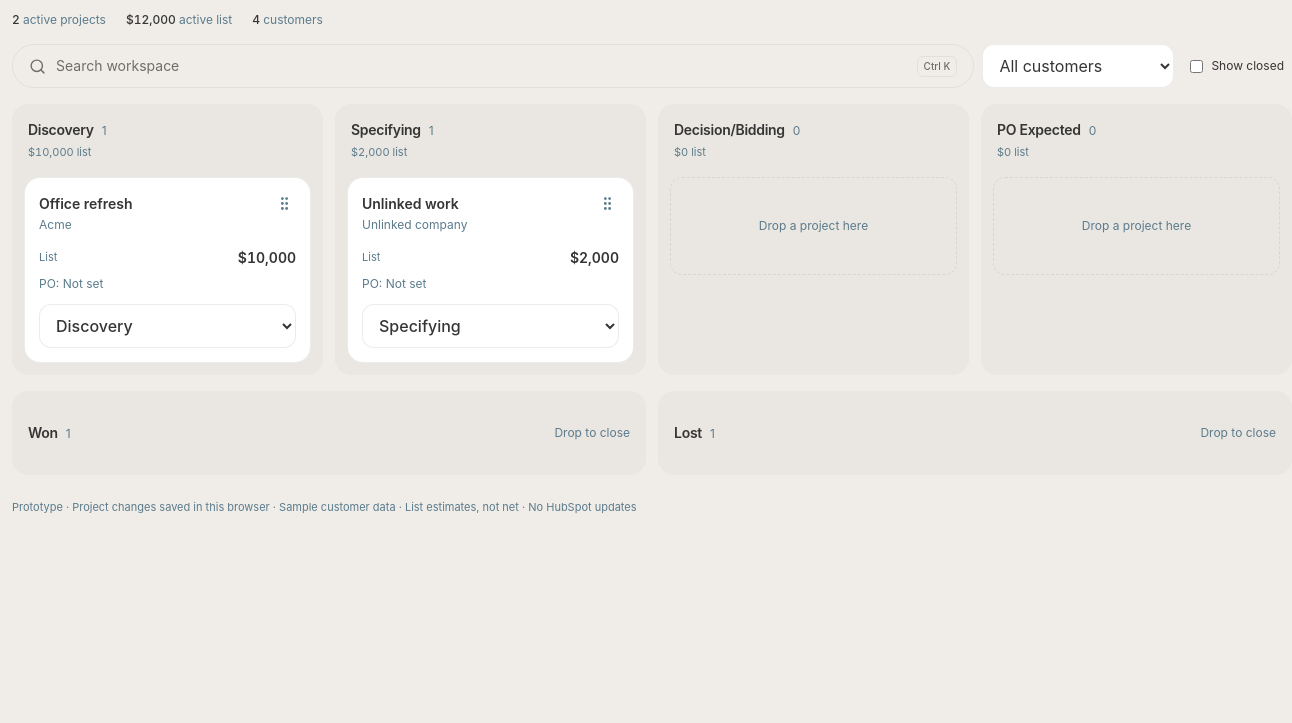
it: ProjectsWorkspace › moving a project to Won updates active totals without losing it
Select "Won" in the dropdown named "Stage for Office refresh" at (168, 326), box [39,304,296,348]
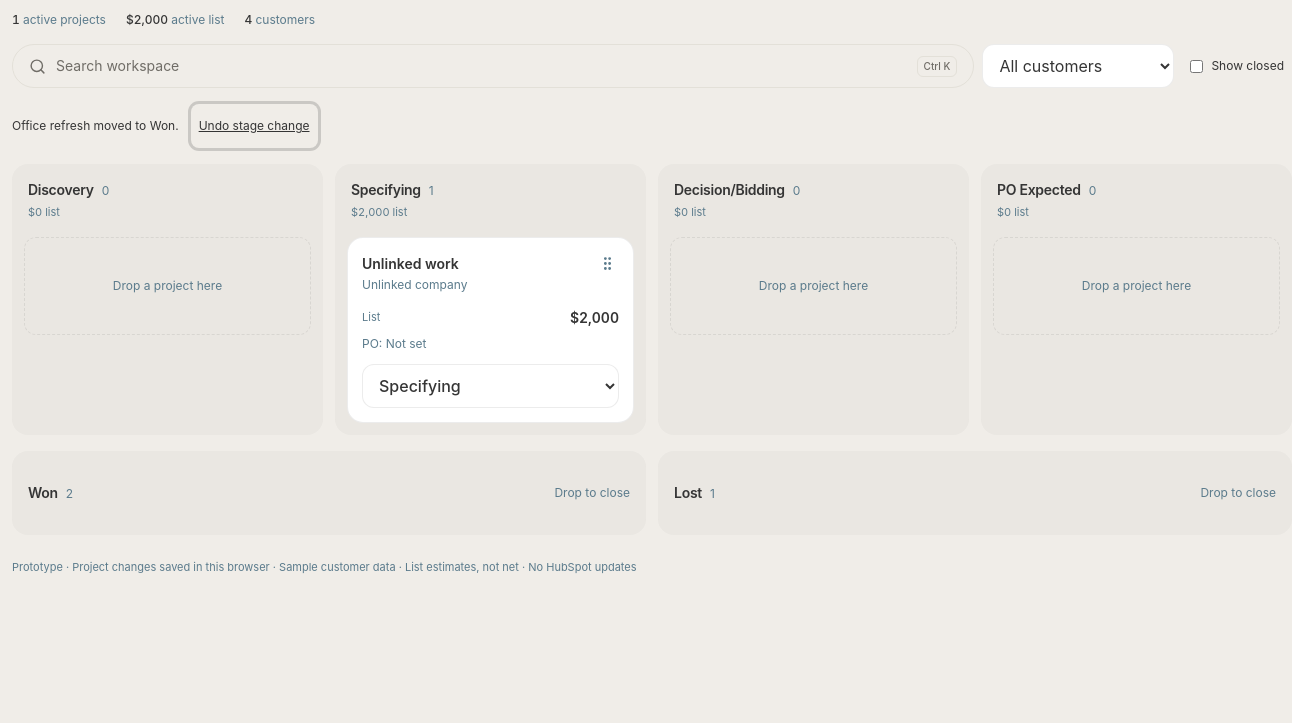
Check: the text "$12,000" is gone
Click the checkbox labelled "Show closed" at (1197, 66), box [1190,60,1203,72]
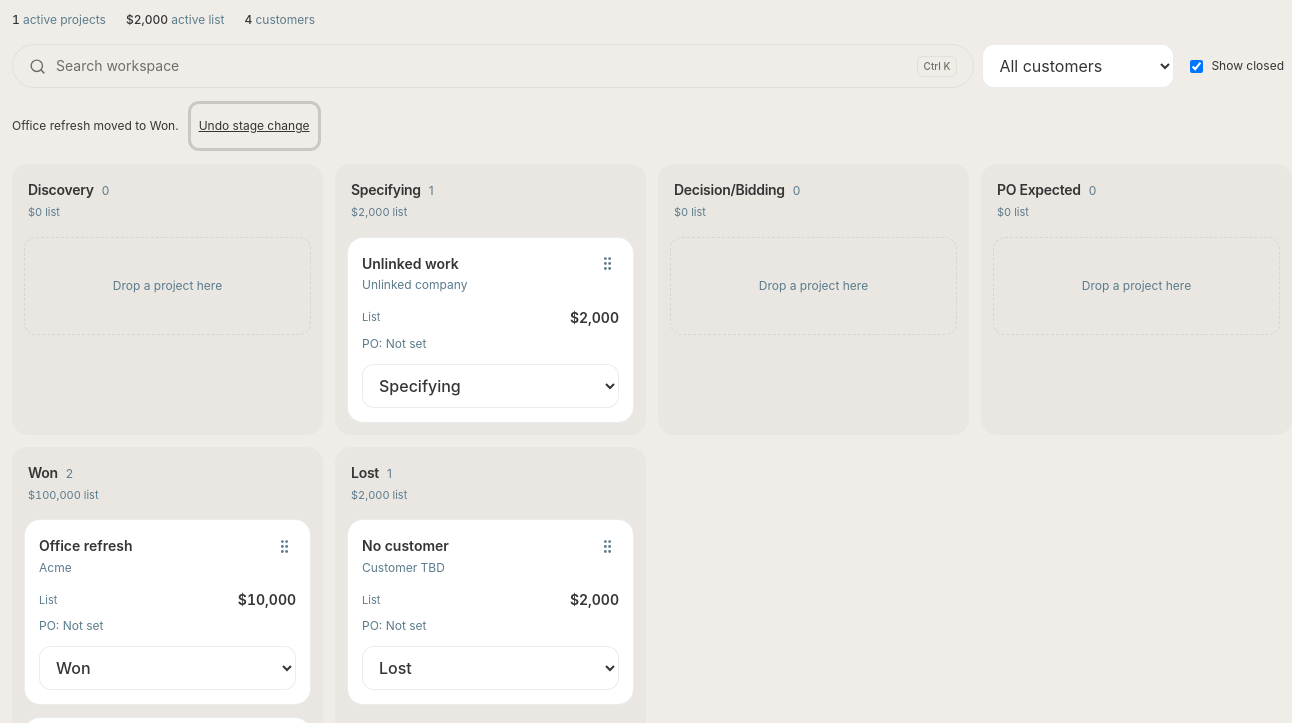
Check: the button "Office refresh Acme" is shown, box [39,534,296,578]
